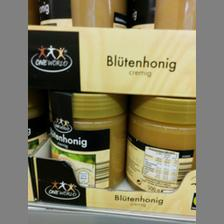Honig: (48, 90, 124, 188), (127, 95, 195, 194)
